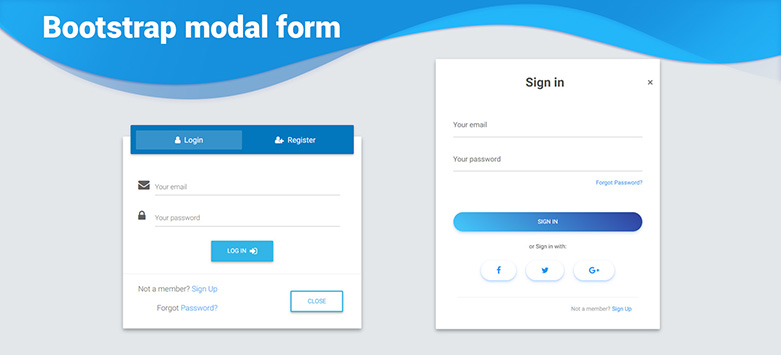button: (208, 238, 277, 264), (289, 289, 344, 313)
field: (136, 177, 344, 200)
field_line: (138, 208, 343, 230), (452, 211, 644, 233), (451, 119, 642, 138), (451, 155, 641, 171)
